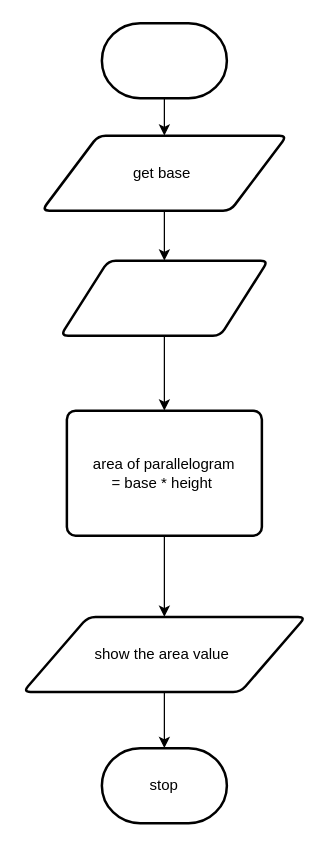
Image size: 328x845. Some labels were removed from this diagram. Here are the shapes that lost their labels. From the top down, the centre of each, then its label:
At pixel 164 60: "start".
At pixel 164 297: "get height".
